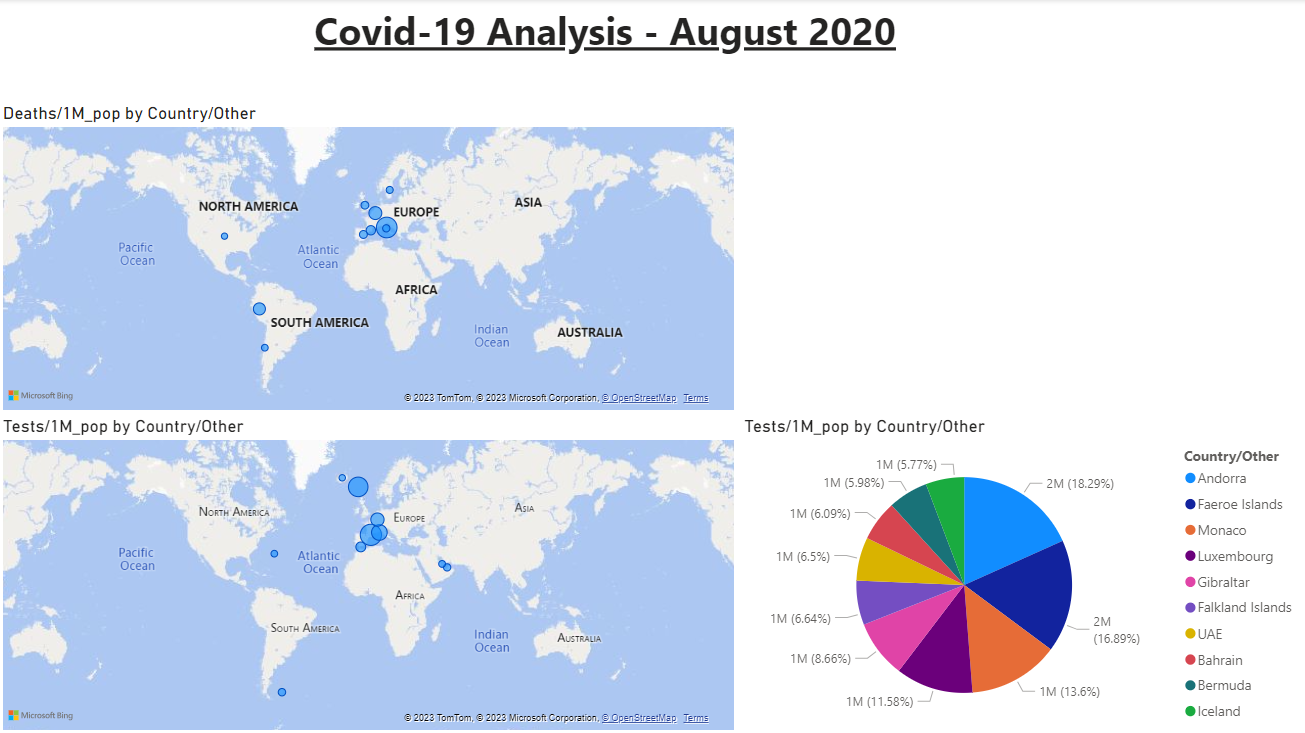

The dashboard page shown, as its layout file describes it:
{"tool":"powerbi","page":{"name":"Page 1","canvas":[1280,720],"ordinal":0},"visuals":[{"type":"map","fields":{"Category":["covid-19.Country/Other"],"Size":["Sum(covid-19.Deaths/1M_pop)"]},"box":[0,101.5,724.9,305.6],"z":0},{"type":"map","fields":{"Category":["covid-19.Country/Other"],"Size":["Sum(covid-19.Tests/1M_pop)"]},"box":[0,407.1,724.9,312.9],"z":1000},{"type":"pieChart","fields":{"Category":["covid-19.Country/Other"],"Y":["Sum(covid-19.Tests/1M_pop)"]},"box":[724.9,407.1,555,312.9],"z":2000},{"type":"textbox","box":[304.4,0,717.6,101.5],"z":3000}]}

Visuals, with their boxes in screenshot pixels (x1, y1, x2, y2), scaled from the page's 1280x720 canvas onto the 1305x733 screenshot:
map - covid-19.Country/Other x Sum(covid-19.Deaths/1M_pop): left=0, top=103, right=739, bottom=414
map - covid-19.Country/Other x Sum(covid-19.Tests/1M_pop): left=0, top=414, right=739, bottom=732
pieChart - covid-19.Country/Other x Sum(covid-19.Tests/1M_pop): left=739, top=414, right=1304, bottom=732
textbox: left=310, top=0, right=1042, bottom=103
